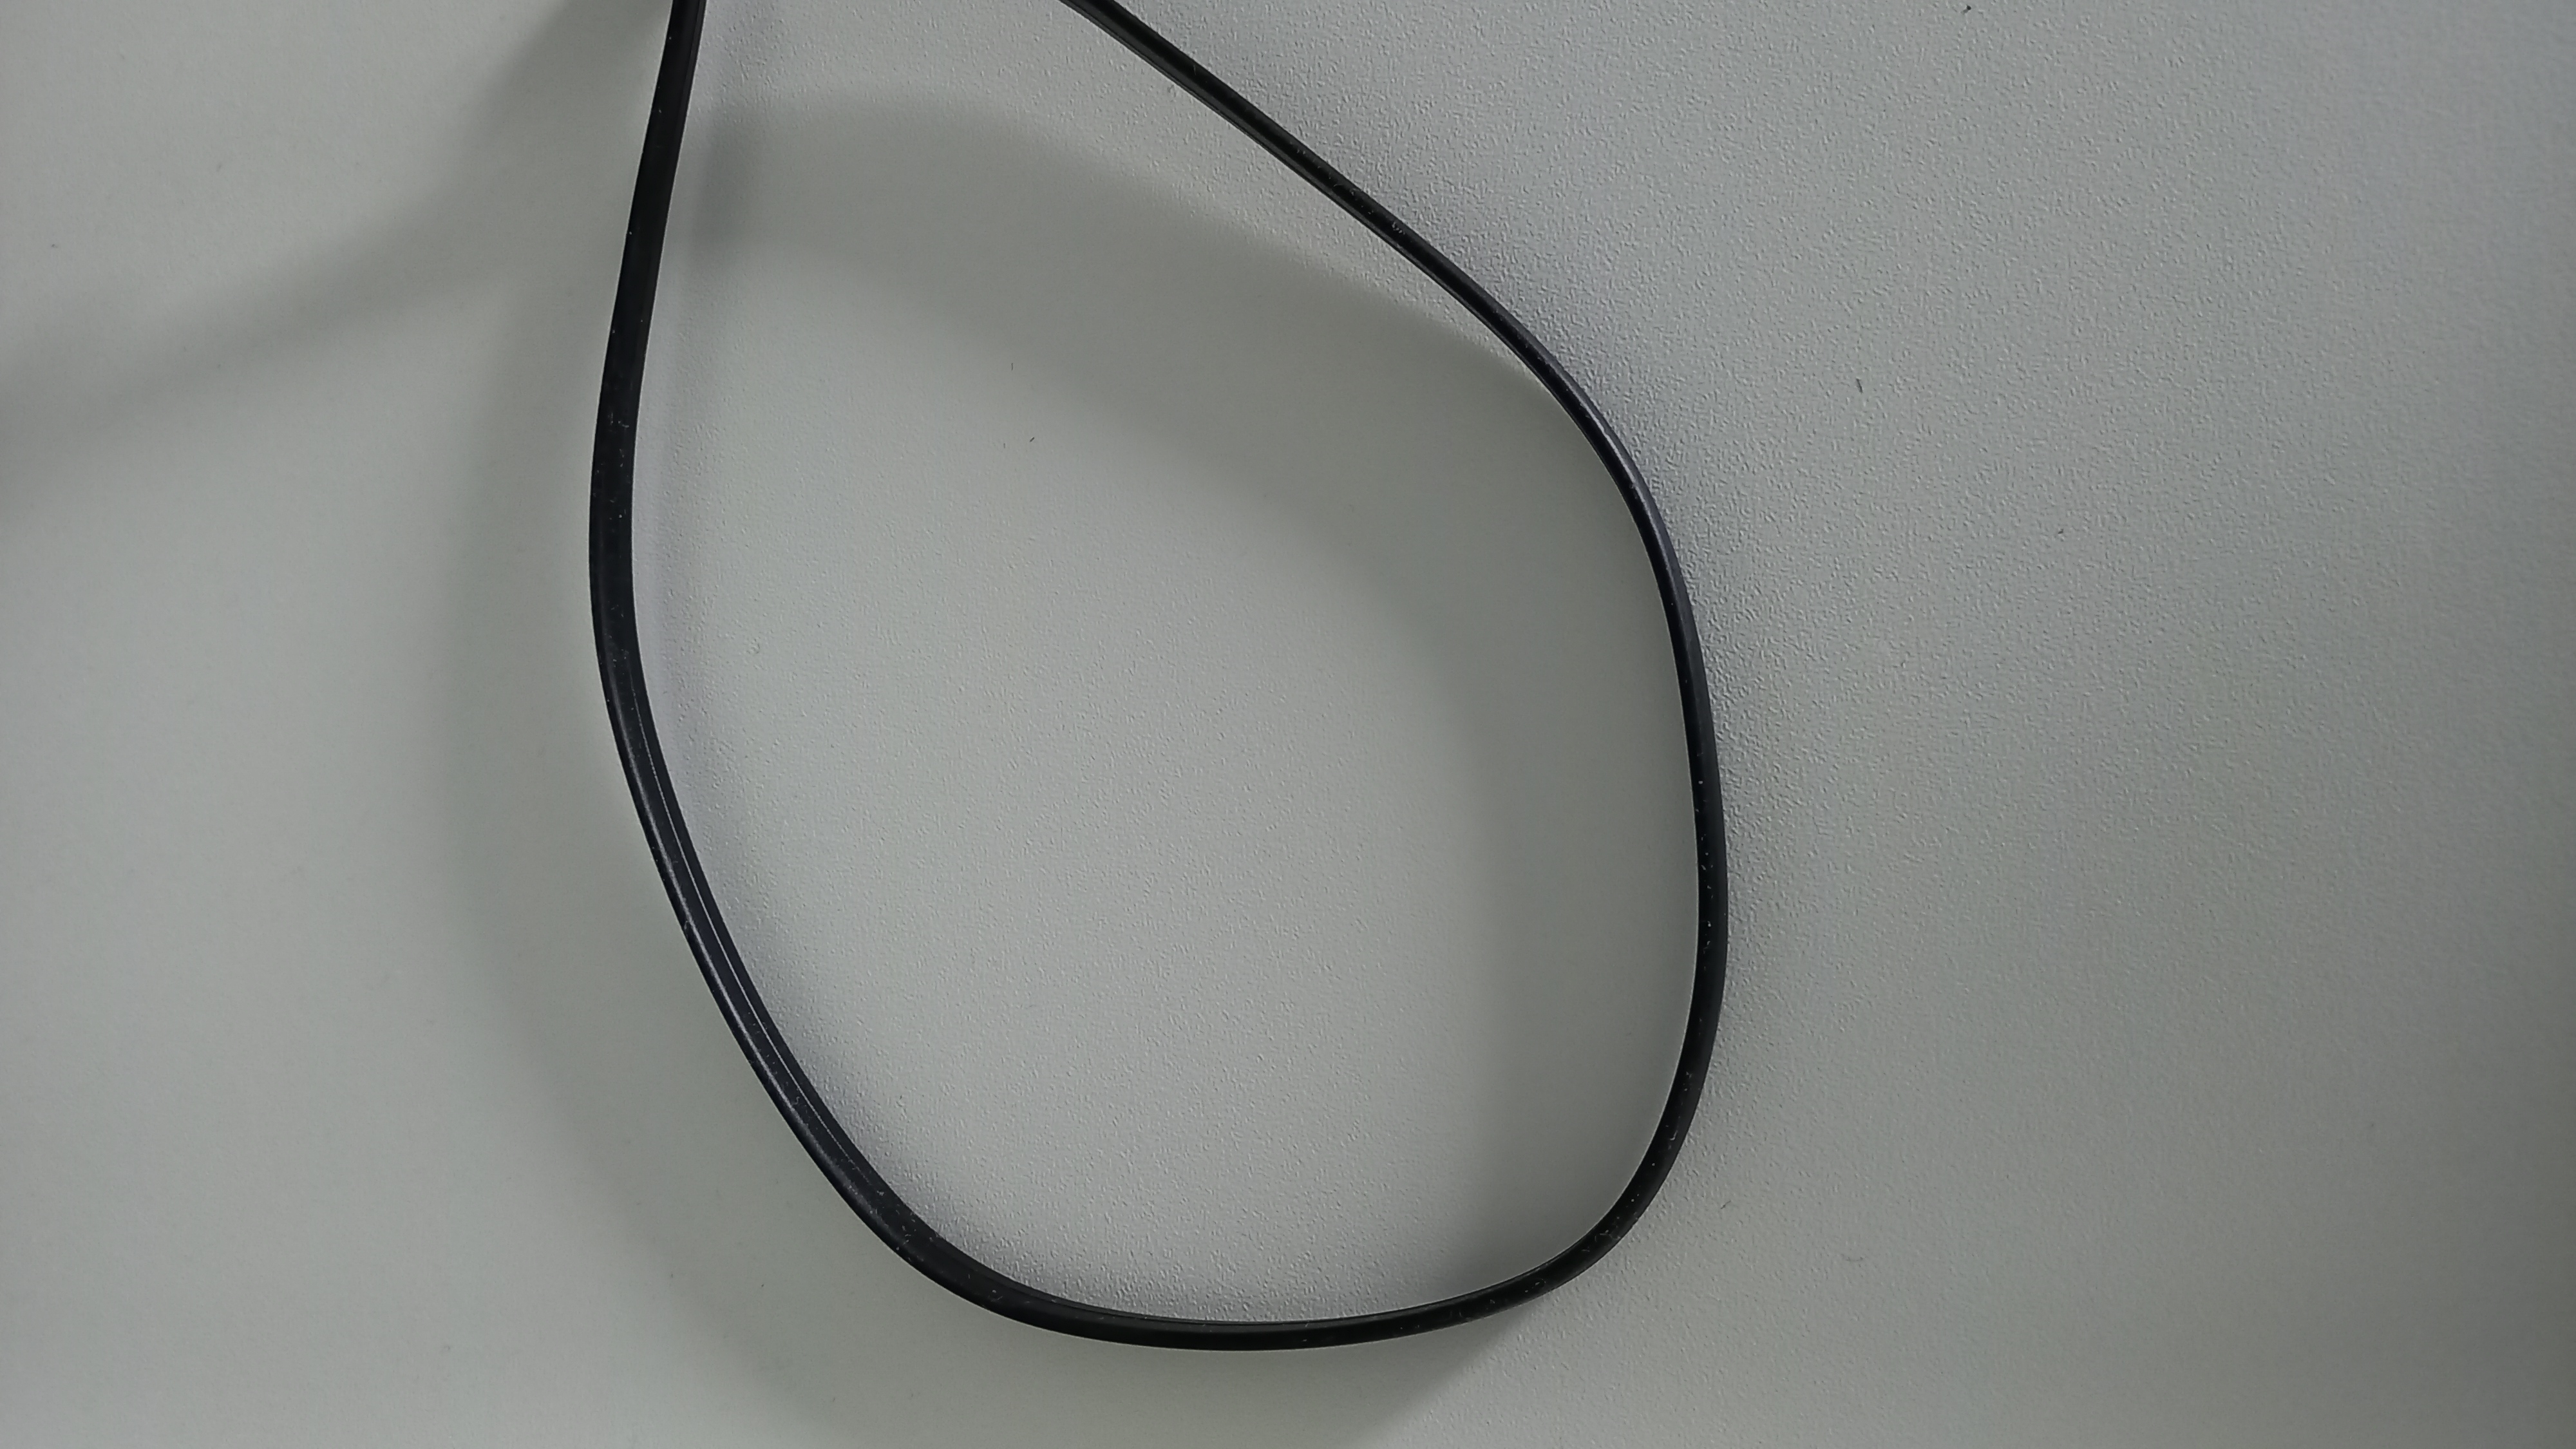Kabel: (573, 30, 1741, 1362)
